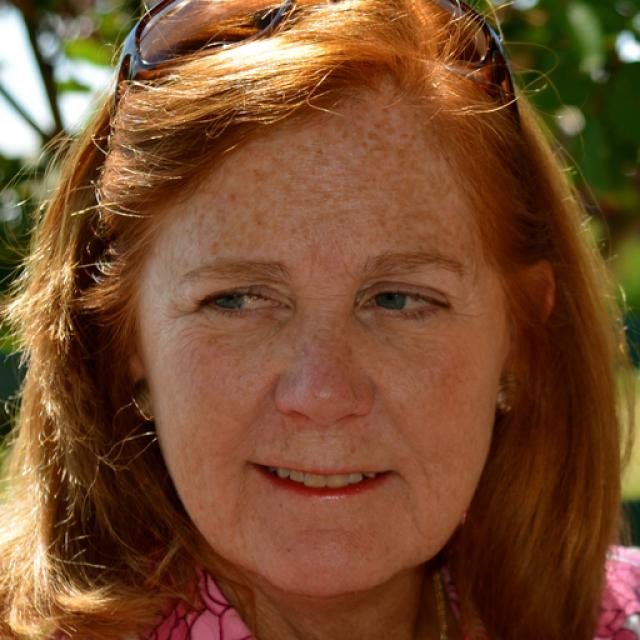Pigmentation: (176, 104, 487, 266), (280, 314, 372, 401)
